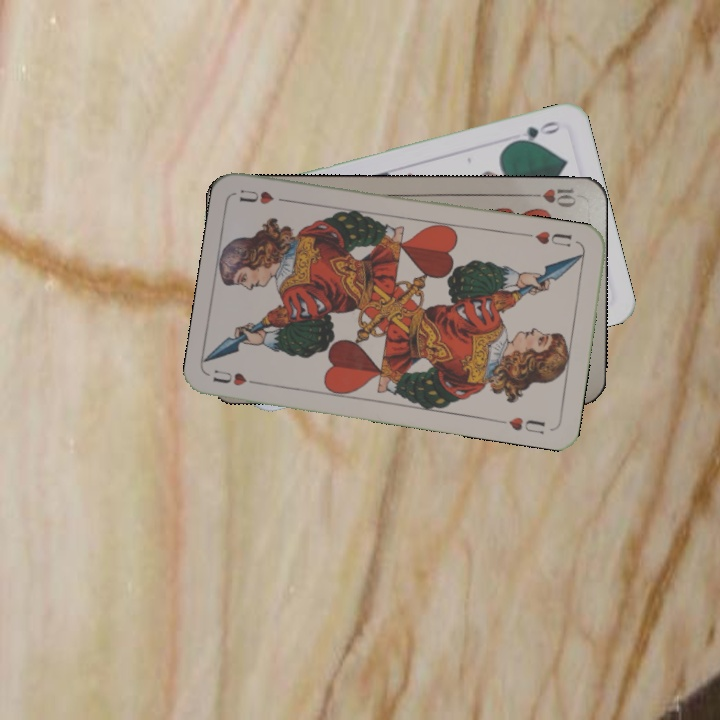GO: (507, 117, 563, 147)
H10: (522, 184, 579, 211)
HU: (209, 365, 266, 389), (531, 226, 574, 250)
